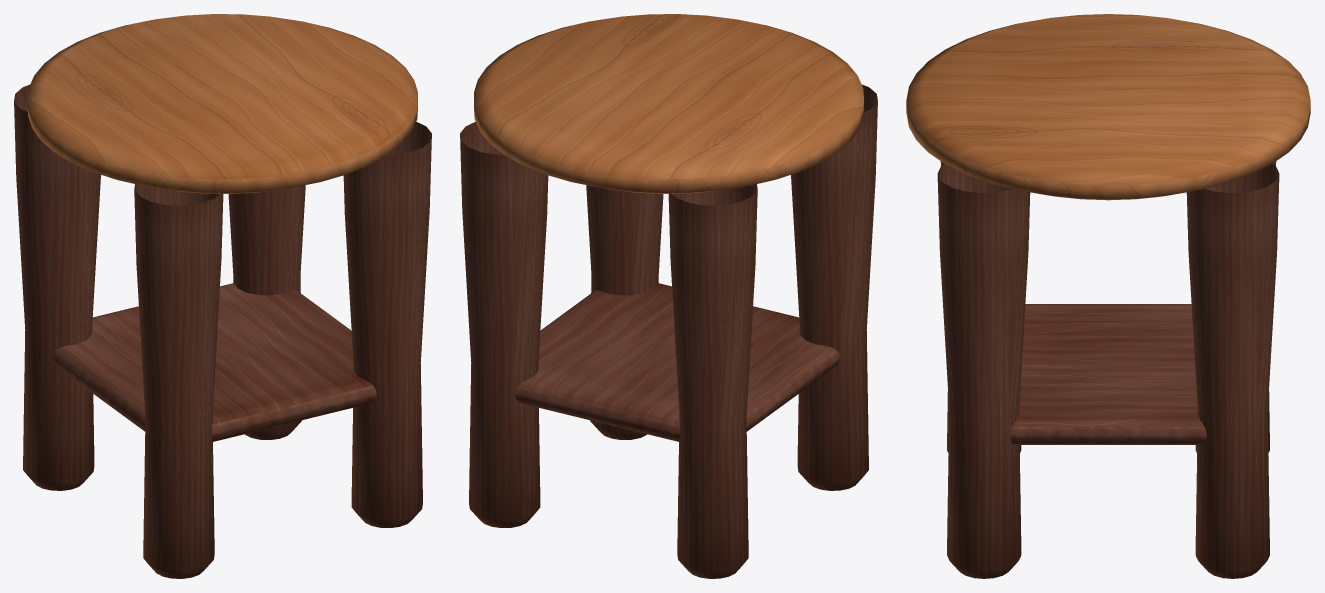
Rendered from V5_SideTable.fbx.
3 renders of one model, left to right at view 1: azimuth 30°, elevation 25°; view 2: azimuth 150°, elevation 25°; view 3: azimuth 270°, elevation 25°, orthographic. The views are drawn at different scales.
Visible parts, largest first — view 1: V5_SideTable; view 2: V5_SideTable; view 3: V5_SideTable.
Boxes of the visible parts, x1,y1,x2,y2 form: V5_SideTable: (14,14,431,578); V5_SideTable: (460,14,877,578); V5_SideTable: (906,14,1310,578).
Bounding box in the file's own units: 0.52 × 0.6 × 0.52.
1 material, 1 textured.
